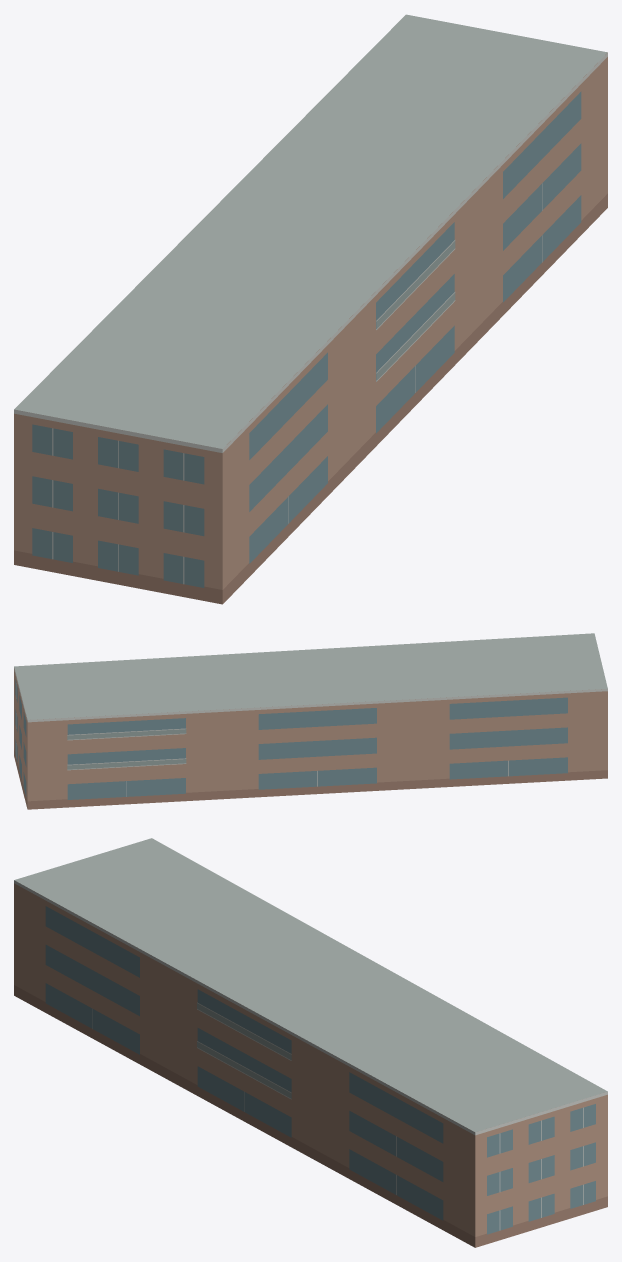
The model's file is survey-upis-32756102.glb.
The picture shows the model from 3 angles, top to bottom: view 1: azimuth 30°, elevation 25°; view 2: azimuth 150°, elevation 25°; view 3: azimuth 270°, elevation 25°; orthographic projection. The views are drawn at different scales.
Parts seen in each view (by area): view 1: survey-upis-32756102.tmp; view 2: survey-upis-32756102.tmp; view 3: survey-upis-32756102.tmp.
Boxes of the visible parts, x1,y1,x2,y2 form: survey-upis-32756102.tmp: (14,14,607,604); survey-upis-32756102.tmp: (14,633,607,809); survey-upis-32756102.tmp: (14,838,607,1247).
Size of the model in its own units: 50 by 9.15 by 42.64.
